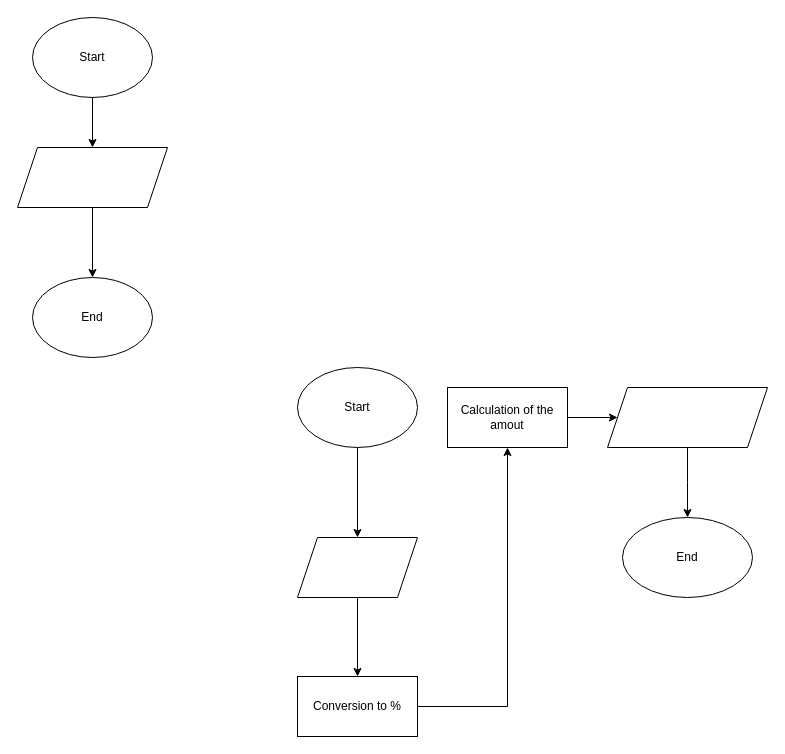
The diagram is 785 pixels wide and 754 high, and some of its shapes have lost their labels. The centre of each missing label's shape, as x and y in pixels:
Input: pixel 357 567
Output of calculatio: pixel 687 417
Print("Hello World"): pixel 92 177
